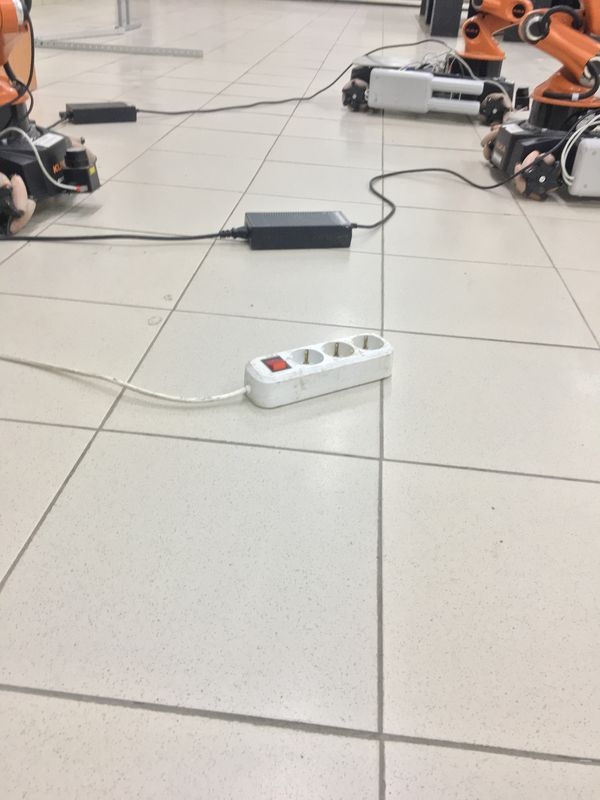socket: (230, 326, 403, 415)
